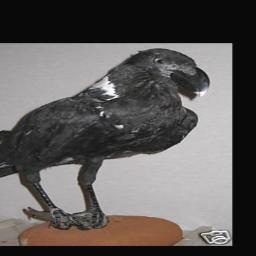Crow: (0, 48, 215, 231)
